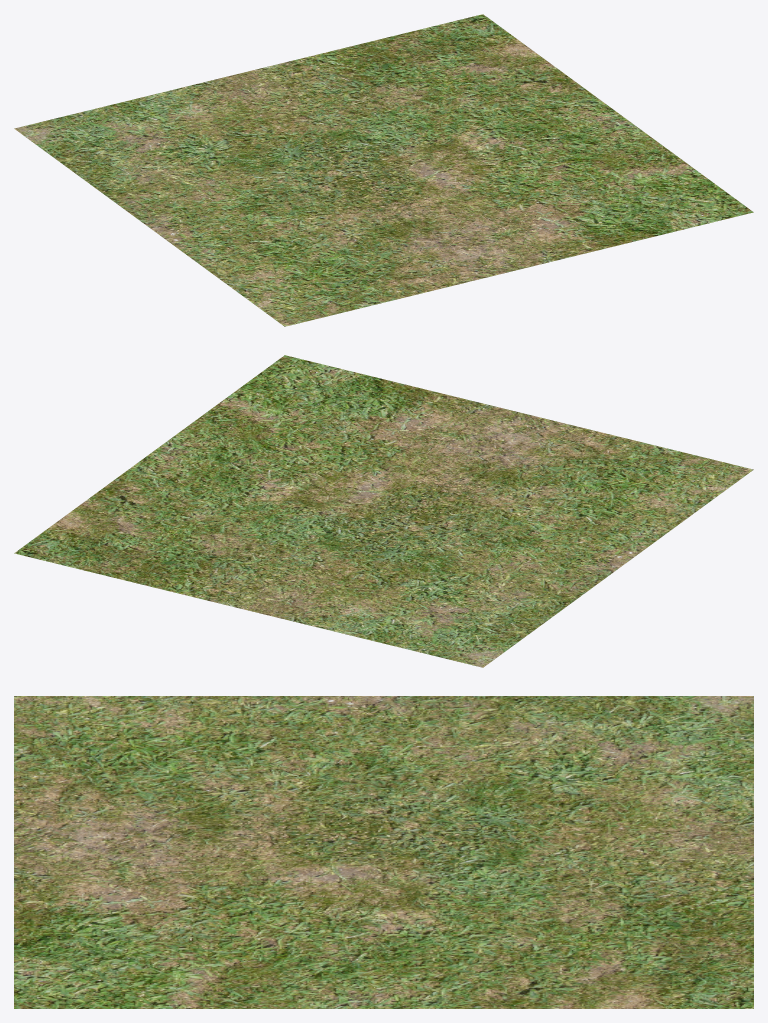
File: ground.obj
3 views of the same model, one above another, from view 1: azimuth 30°, elevation 25°; view 2: azimuth 150°, elevation 25°; view 3: azimuth 270°, elevation 25° (orthographic). The views are drawn at different scales.
Visible parts, largest first — view 1: Grid_Grid.001; view 2: Grid_Grid.001; view 3: Grid_Grid.001.
Boxes of the visible parts, bbox=[...] form: Grid_Grid.001: bbox=[14, 14, 753, 326]; Grid_Grid.001: bbox=[14, 355, 753, 667]; Grid_Grid.001: bbox=[14, 696, 753, 1008].
Bounding box in the file's own units: 8 × 0 × 8.
